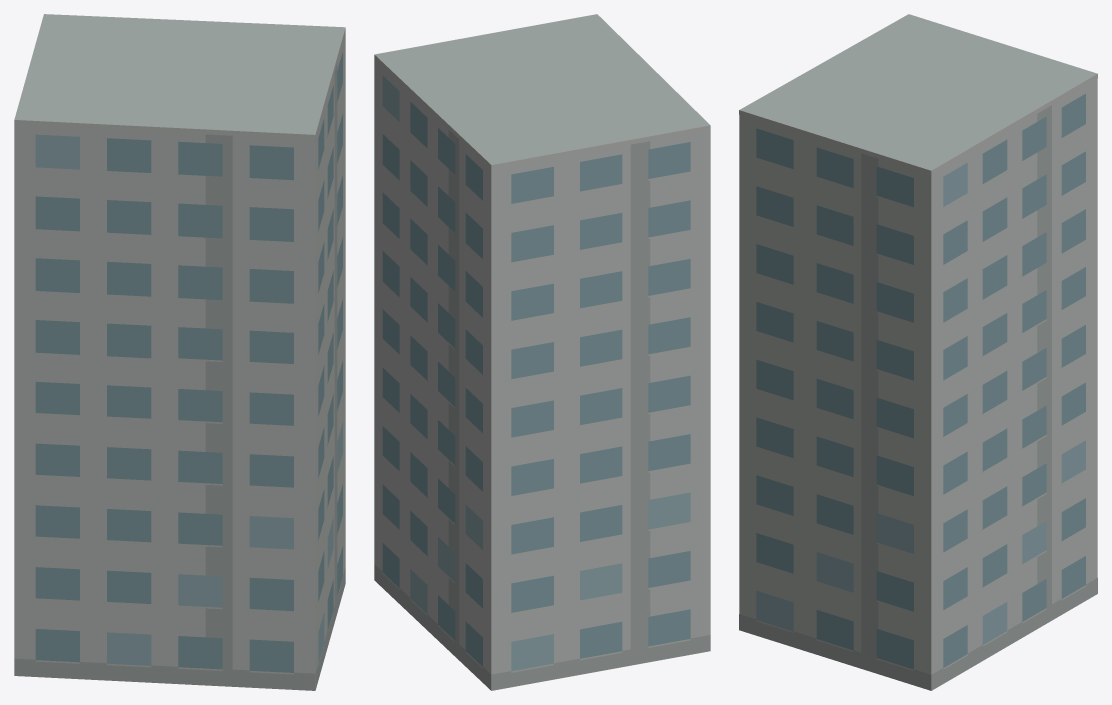
Rendered from survey-upis-32635367.glb.
3 views of the same model, side by side, from view 1: azimuth 30°, elevation 25°; view 2: azimuth 150°, elevation 25°; view 3: azimuth 270°, elevation 25° (orthographic). The views are drawn at different scales.
Visible parts, largest first — view 1: survey-upis-32635367.tmp; view 2: survey-upis-32635367.tmp; view 3: survey-upis-32635367.tmp.
Boxes of the visible parts, box(x1,y1,x2,y2) form: survey-upis-32635367.tmp: box(14, 14, 345, 690); survey-upis-32635367.tmp: box(374, 14, 710, 690); survey-upis-32635367.tmp: box(739, 14, 1097, 690).
Bounding box in the file's own units: 17.49 × 27.05 × 16.91.
